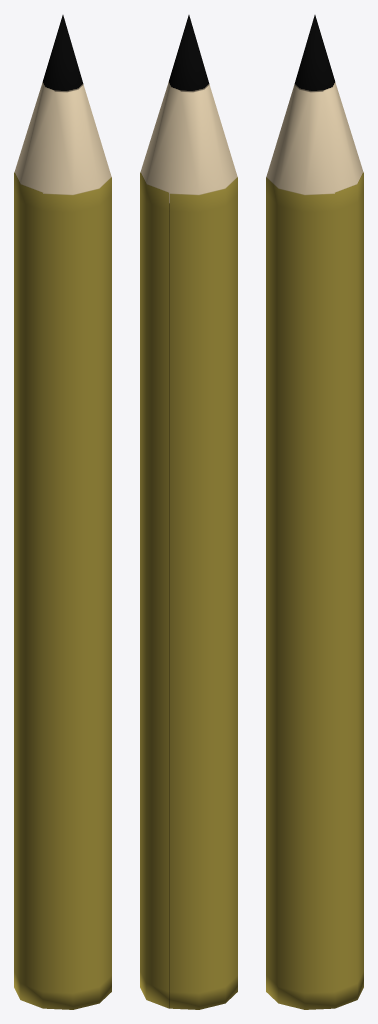
File: MATITA.FBX
3 renders of one model, left to right at view 1: azimuth 30°, elevation 25°; view 2: azimuth 210°, elevation 25°; view 3: azimuth 330°, elevation 25°, orthographic.
Parts seen in each view (by area): view 1: matita; view 2: matita; view 3: matita.
Part boxes in pixels (x1,y1,x2,y2): matita: (14, 15, 111, 1009); matita: (140, 15, 237, 1009); matita: (266, 15, 363, 1009).
Bounding box in the file's own units: 0.0171 × 0.1873 × 0.0163.
